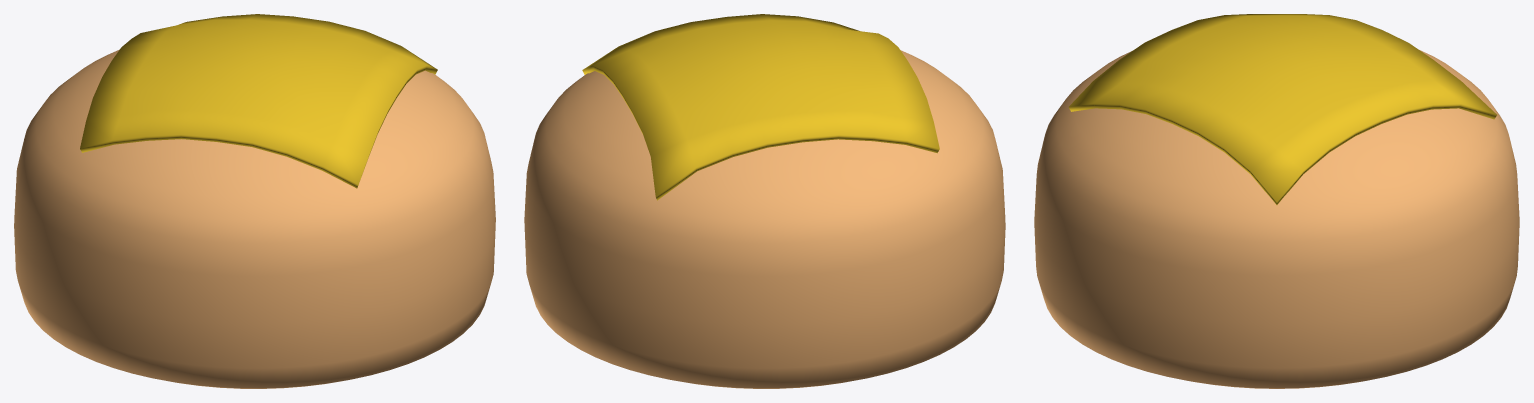
The model's file is roti keju polos.fbx.
3 renders of one model, left to right at view 1: azimuth 30°, elevation 25°; view 2: azimuth 150°, elevation 25°; view 3: azimuth 270°, elevation 25°, orthographic.
Parts seen in each view (by area): view 1: Cylinder, Plane; view 2: Cylinder, Plane; view 3: Cylinder, Plane.
Boxes of the visible parts, x1,y1,x2,y2 form: Cylinder: (14, 49, 495, 388); Plane: (80, 14, 437, 188); Cylinder: (524, 50, 1005, 388); Plane: (582, 14, 939, 200); Cylinder: (1034, 50, 1519, 388); Plane: (1068, 14, 1496, 204).
Bounding box in the file's own units: 234 × 134 × 234.
